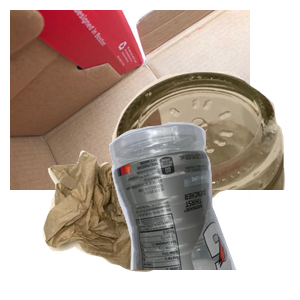cardboard: (10, 10, 250, 190)
glass: (89, 69, 300, 249)
plastic: (106, 120, 300, 300)
trash: (40, 138, 280, 300)
